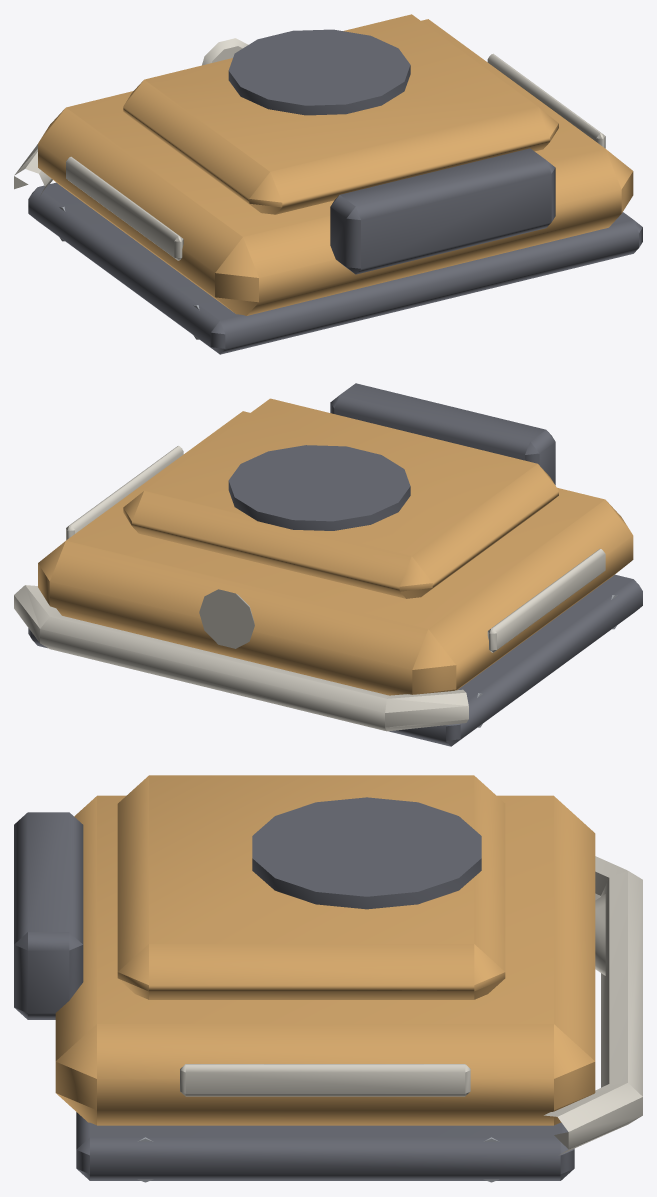
Rendered from mower_deck_1.gltf.
3 renders of one model, top to bottom at view 1: azimuth 30°, elevation 25°; view 2: azimuth 150°, elevation 25°; view 3: azimuth 270°, elevation 25°, orthographic. The views are drawn at different scales.
Visible parts, largest first — view 1: mower_deck_1; view 2: mower_deck_1; view 3: mower_deck_1.
Part boxes in pixels (x1,y1,x2,y2): mower_deck_1: (14, 14, 642, 354); mower_deck_1: (14, 383, 642, 746); mower_deck_1: (14, 775, 642, 1182).
Bounding box in the file's own units: 0.9788 × 0.325 × 0.9088.
